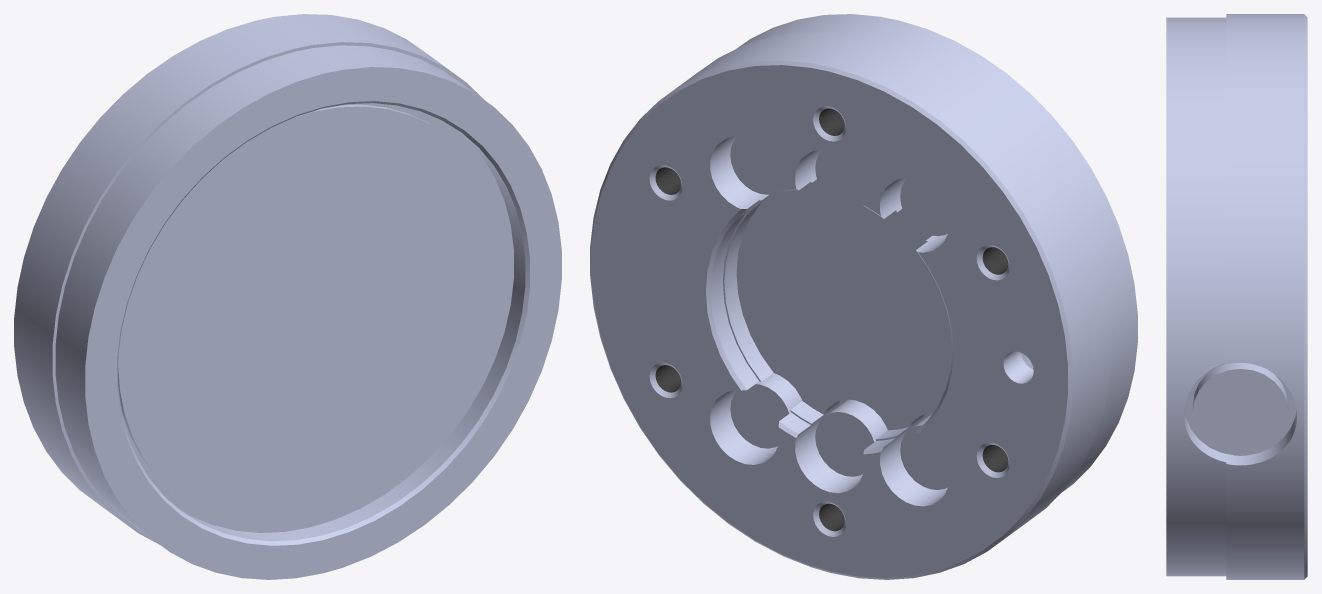
Rendered from DISK2.glb.
3 renders of one model, left to right at view 1: azimuth 30°, elevation 25°; view 2: azimuth 150°, elevation 25°; view 3: azimuth 270°, elevation 25°, orthographic.
Parts seen in each view (by area): view 1: IRB460_DISK; view 2: IRB460_DISK; view 3: IRB460_DISK.
Boxes of the visible parts, left/top/right/bottom form: IRB460_DISK: left=14, top=14, right=561, bottom=579; IRB460_DISK: left=590, top=14, right=1137, bottom=579; IRB460_DISK: left=1166, top=14, right=1307, bottom=579.
Size of the model in its own units: 0.1599 by 0.16 by 0.04.
